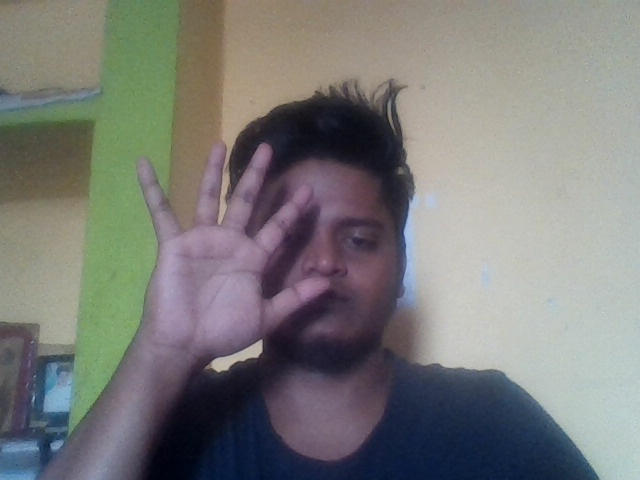Hello: (129, 137, 335, 365)
